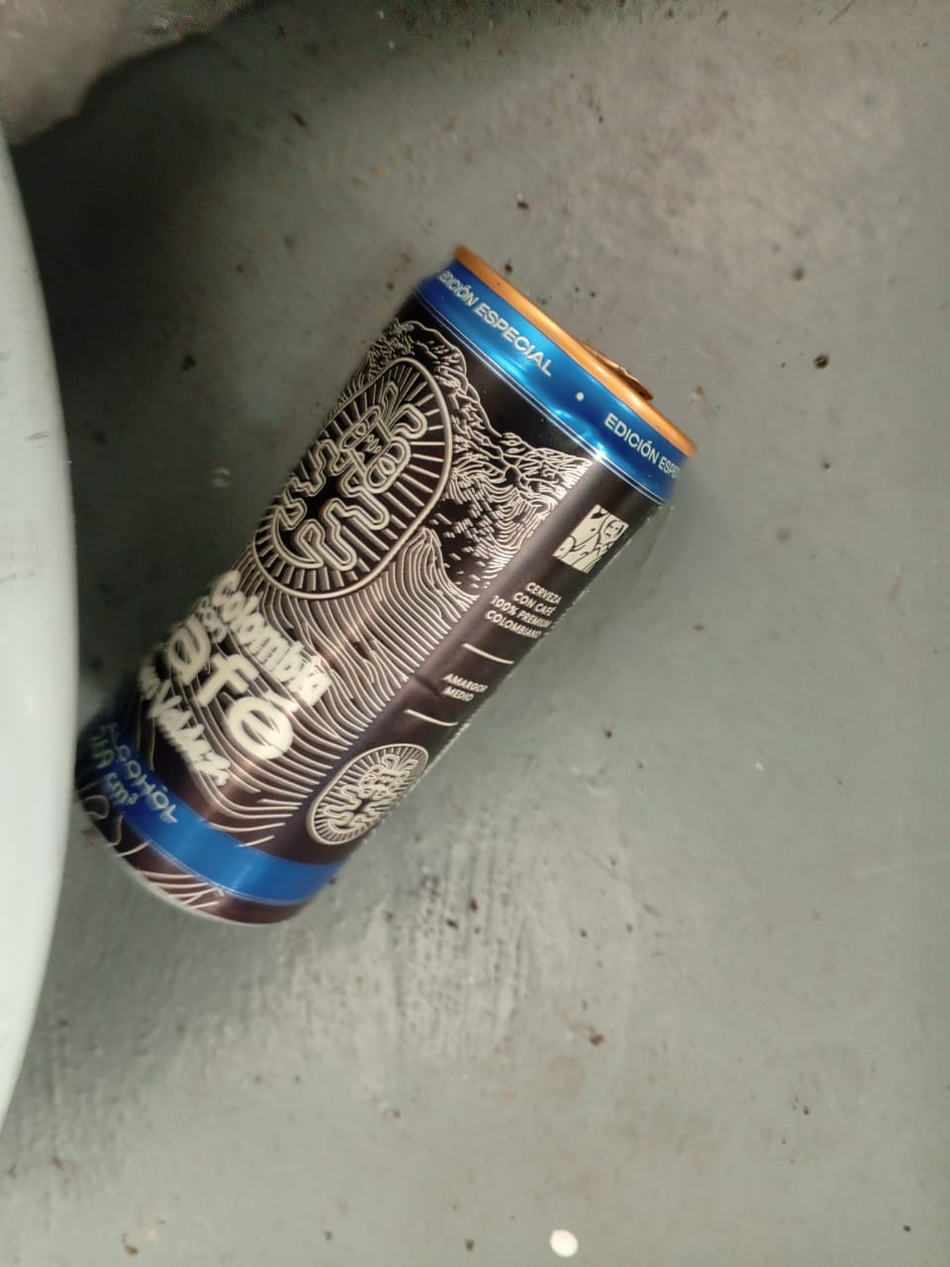Metal: (74, 254, 698, 935)
